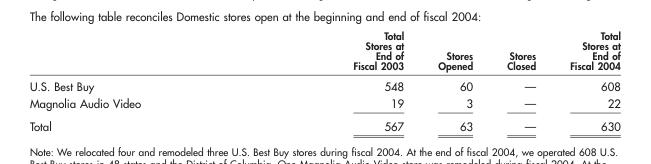table: (28, 28, 619, 133)
table column: (28, 28, 246, 133), (246, 28, 420, 133), (420, 28, 489, 133), (552, 28, 619, 133), (489, 28, 552, 133)
table column header: (28, 28, 619, 75)
table row: (28, 28, 619, 75), (28, 94, 619, 114), (28, 75, 619, 94), (28, 114, 619, 133)
